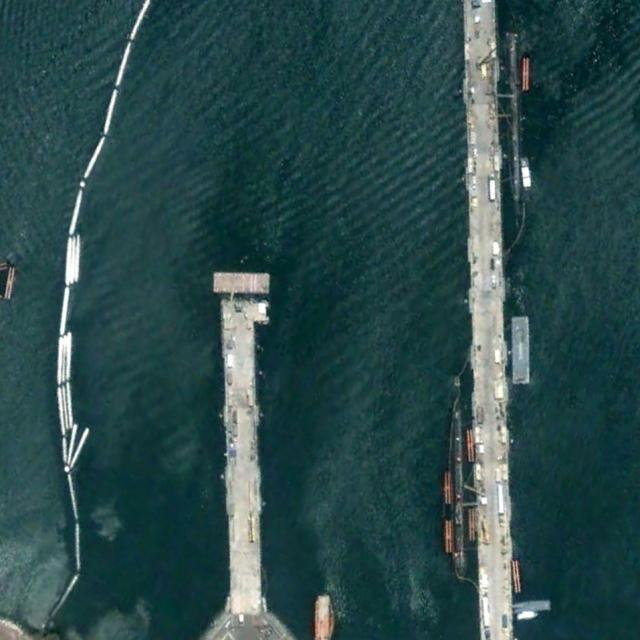Submarine: (502, 31, 522, 217), (450, 391, 469, 585)
